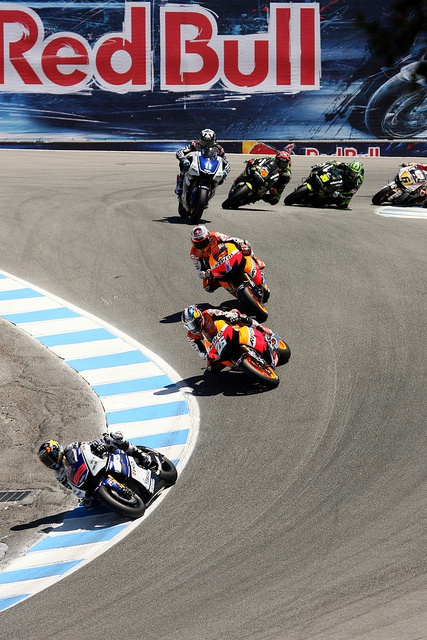non-vehicle: (65, 431, 176, 517), (201, 308, 290, 386), (364, 56, 426, 138), (205, 242, 270, 320), (177, 147, 228, 222), (220, 159, 279, 209), (282, 164, 344, 204), (370, 163, 426, 207)
